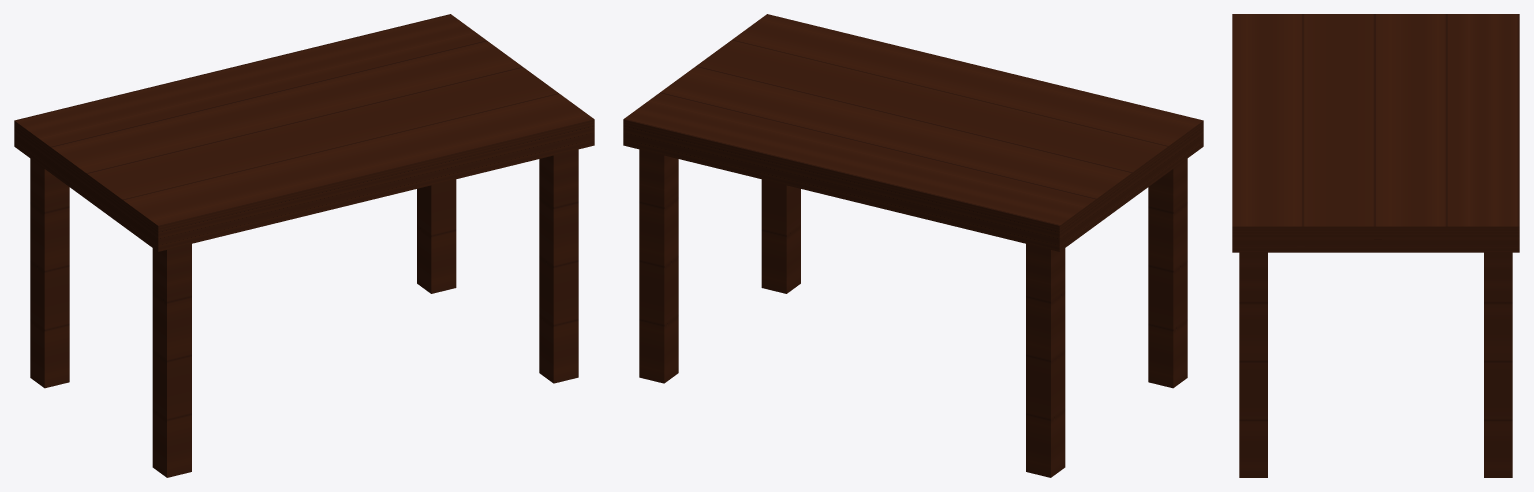
Rendered from mesa-blocos.glb.
The picture shows the model from 3 angles, left to right: view 1: azimuth 30°, elevation 25°; view 2: azimuth 150°, elevation 25°; view 3: azimuth 270°, elevation 25°; orthographic projection.
Visible parts, largest first — view 1: tampo, perna (×4); view 2: tampo, perna (×4); view 3: tampo, perna (×2).
Boxes of the visible parts, <box> form: tampo: <box>14,14,594,251</box>; perna (×4): <box>30,149,578,477</box>; tampo: <box>623,14,1203,251</box>; perna (×4): <box>639,149,1187,477</box>; tampo: <box>1232,14,1519,252</box>; perna (×2): <box>1239,252,1512,477</box>.
Bounding box in the file's own units: 1.4 × 0.79 × 0.8.
Materials: 1 (1 with a texture image).
